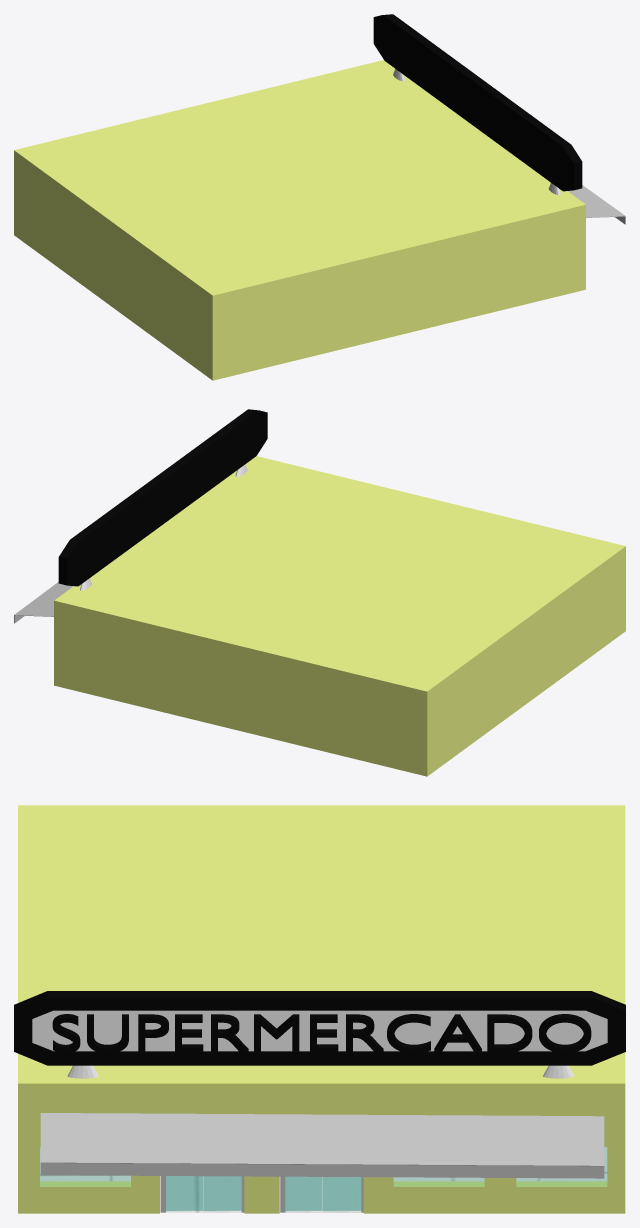
Rendered from supermercado.obj.
3 renders of one model, top to bottom at view 1: azimuth 30°, elevation 25°; view 2: azimuth 150°, elevation 25°; view 3: azimuth 270°, elevation 25°, orthographic. The views are drawn at different scales.
Visible parts, largest first — view 1: Cube, Cylinder.000_Cylinder.003, Cube.001_Cube.002; view 2: Cube, Cylinder.000_Cylinder.003, Cube.001_Cube.002; view 3: Cube, Cube.001_Cube.002, Cylinder.000_Cylinder.003, Cylinder.001_Cylinder.002, Text_Text.001, Plane.009_Plane.013, Plane.003_Plane.008, Plane.004_Plane.006, Plane.002_Plane.007, Plane.005_Plane.009, Plane.006_Plane.010, Plane.008_Plane.012 (+1 smaller).
Part boxes in pixels (<box>): Cube: <box>14,60,585,380</box>; Cylinder.000_Cylinder.003: <box>373,14,582,191</box>; Cube.001_Cube.002: <box>568,185,625,224</box>; Cube: <box>54,456,625,776</box>; Cylinder.000_Cylinder.003: <box>58,409,267,586</box>; Cube.001_Cube.002: <box>14,582,73,623</box>; Cube: <box>18,805,625,1213</box>; Cube.001_Cube.002: <box>40,1113,604,1178</box>; Cylinder.000_Cylinder.003: <box>14,991,625,1065</box>; Cylinder.001_Cylinder.002: <box>32,1010,607,1078</box>; Text_Text.001: <box>52,1014,591,1053</box>; Plane.009_Plane.013: <box>40,1147,607,1212</box>; Plane.003_Plane.008: <box>203,1176,241,1210</box>; Plane.004_Plane.006: <box>322,1177,361,1210</box>; Plane.002_Plane.007: <box>285,1176,322,1210</box>; Plane.005_Plane.009: <box>166,1176,202,1210</box>; Plane.006_Plane.010: <box>40,1148,130,1186</box>; Plane.008_Plane.012: <box>516,1147,606,1186</box>.
Bounding box in the file's own units: 12.72 × 4.04 × 10.5.
6 materials, 1 textured.
